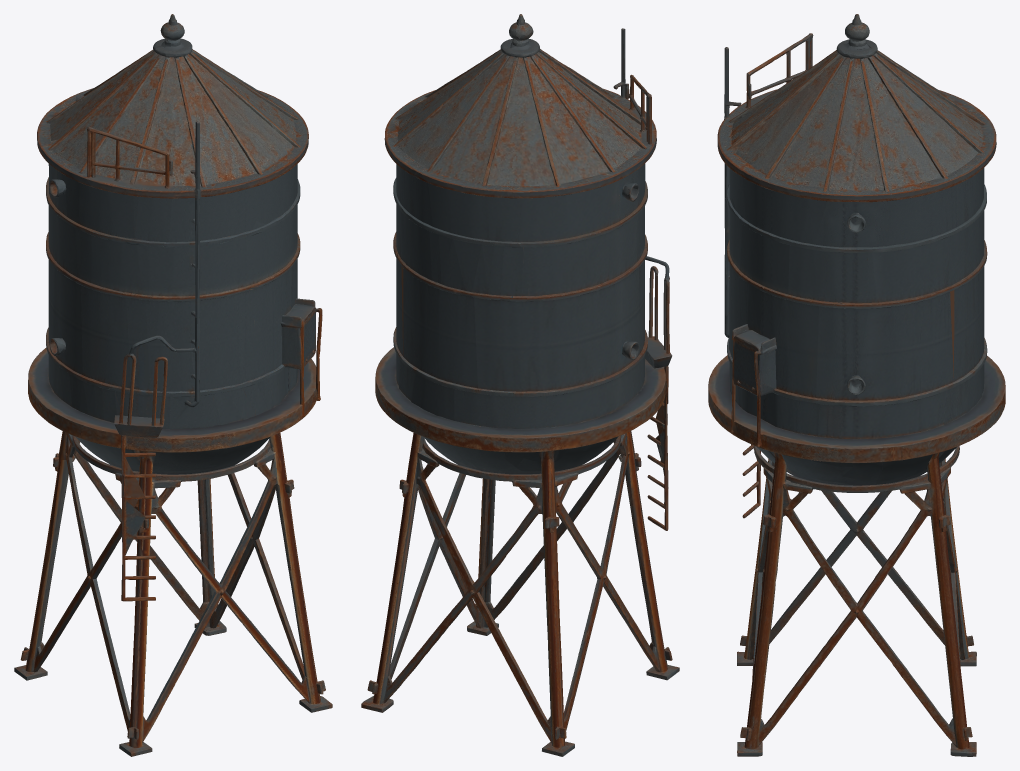
File: water_tower_steel.glb
3 views of the same model, side by side, from view 1: azimuth 30°, elevation 25°; view 2: azimuth 150°, elevation 25°; view 3: azimuth 270°, elevation 25° (orthographic). The views are drawn at different scales.
Bounding box in the file's own units: 0.7418 × 1.9 × 0.7417.
Materials: 1 (1 with a texture image).
